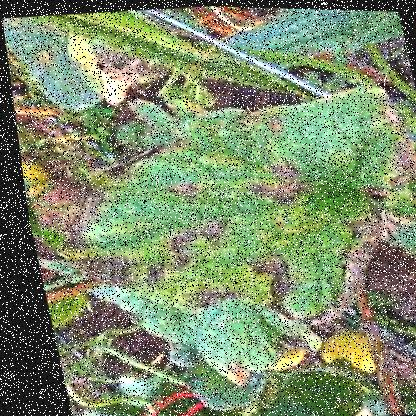Anthracnose: (131, 125, 338, 306), (344, 81, 415, 231), (129, 213, 233, 285), (230, 246, 310, 330), (227, 143, 317, 216), (52, 237, 145, 302), (144, 169, 213, 199)
